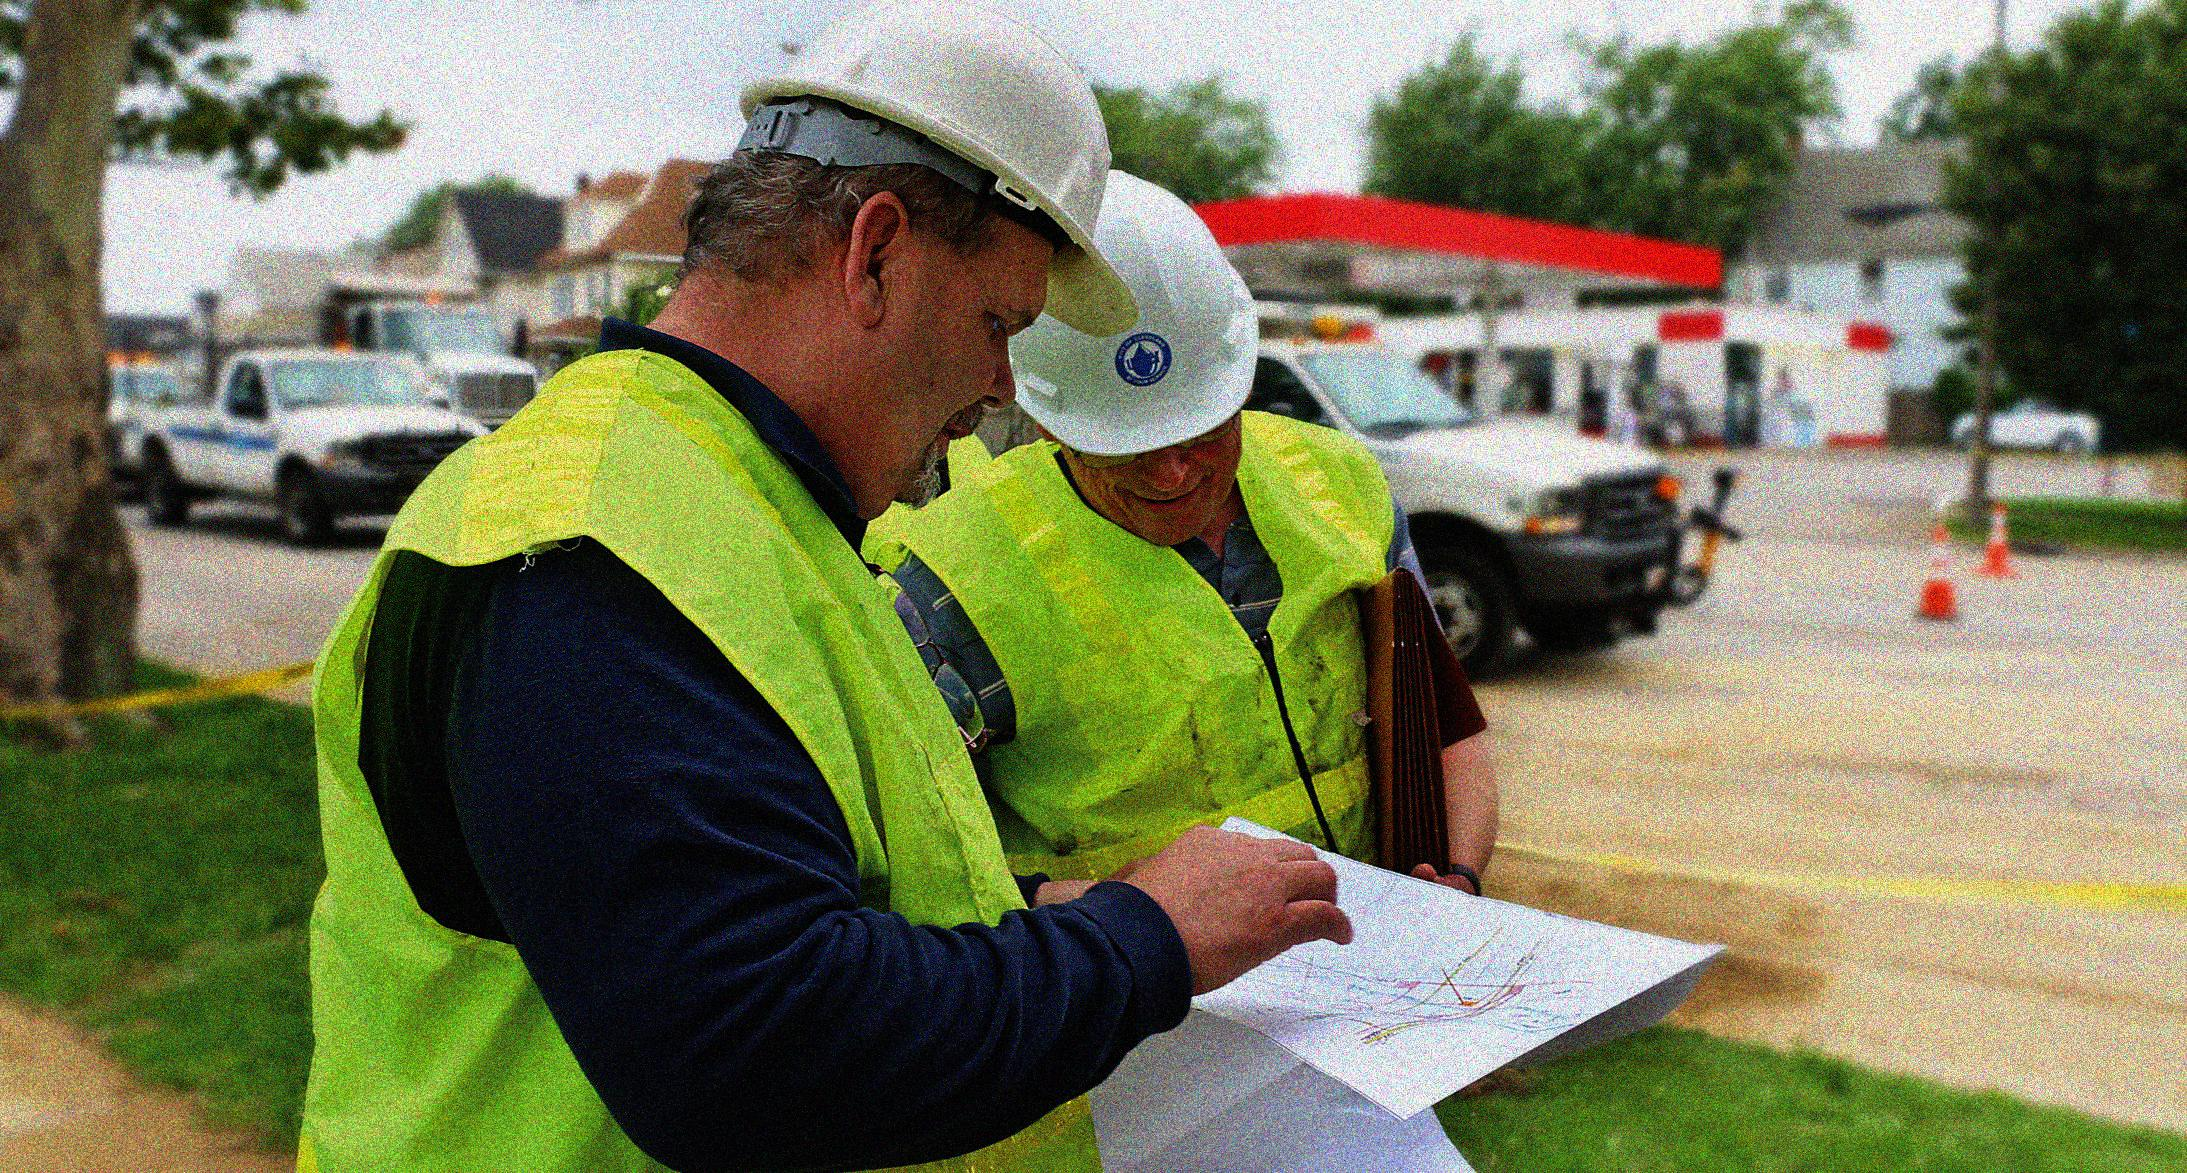helmet: (725, 1, 1147, 506), (1010, 159, 1258, 545)
